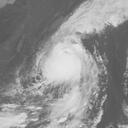cyclone: (35, 35, 90, 88)
